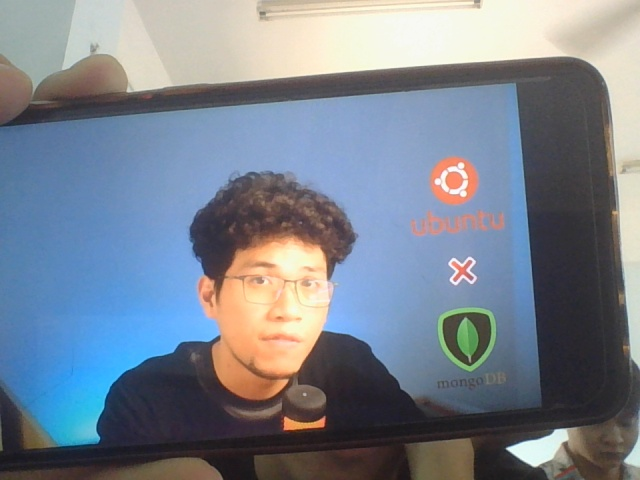fake: (202, 184, 344, 386)
